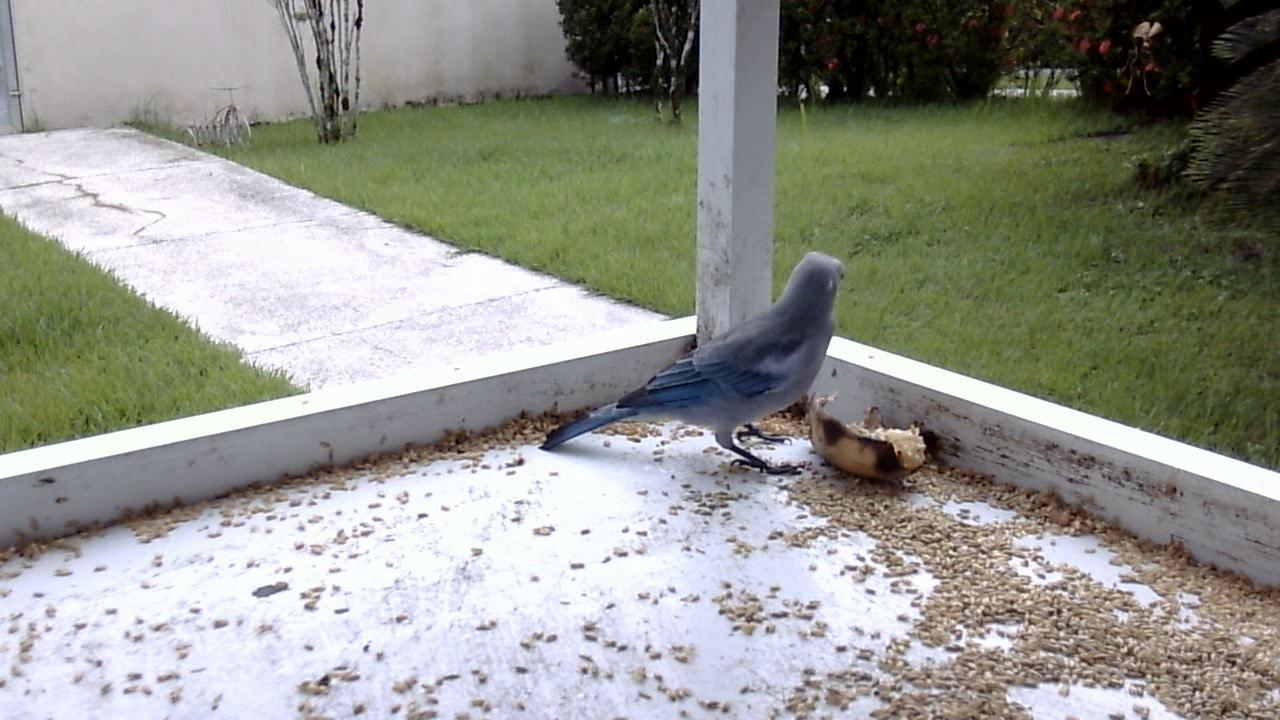sanhaco_da_amazonia: (537, 252, 851, 483)
